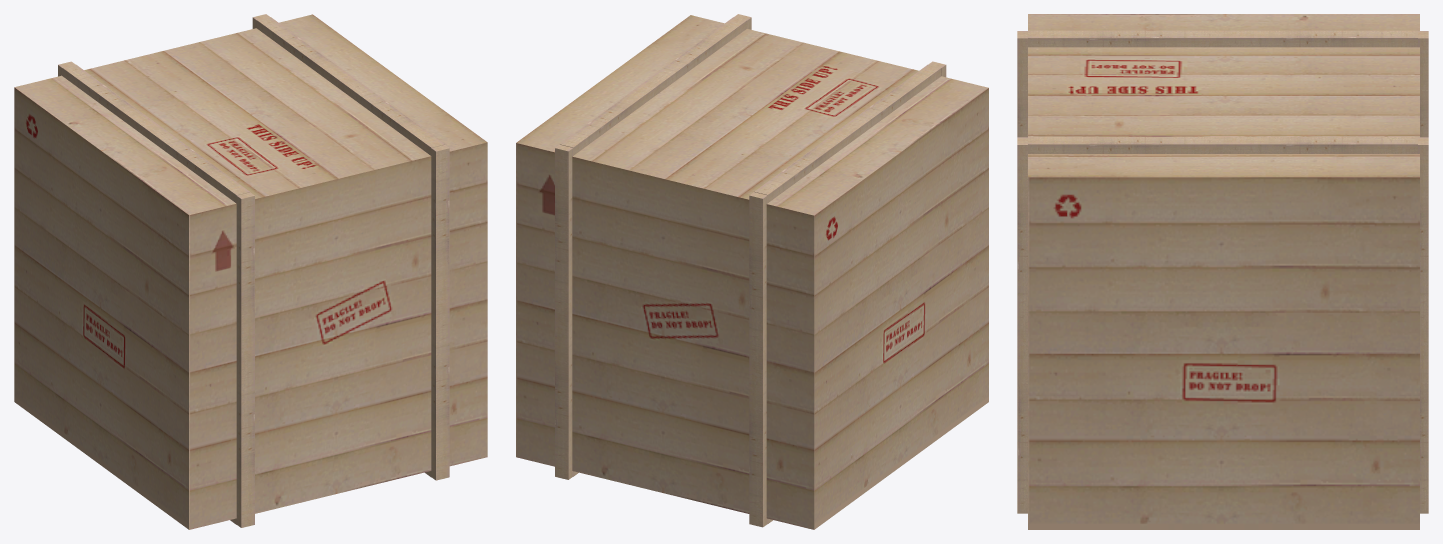
Rendered from crate.fbx.
3 views of the same model, side by side, from view 1: azimuth 30°, elevation 25°; view 2: azimuth 150°, elevation 25°; view 3: azimuth 270°, elevation 25° (orthographic). The views are drawn at different scales.
Parts seen in each view (by area): view 1: DYNAMIC_15; view 2: DYNAMIC_15; view 3: DYNAMIC_15.
Part boxes in pixels (bbox=[...]): DYNAMIC_15: bbox=[14, 14, 487, 529]; DYNAMIC_15: bbox=[516, 14, 988, 529]; DYNAMIC_15: bbox=[1017, 14, 1428, 529].
Size of the model in its own units: 99.26 by 106 by 105.
1 material, 1 textured.
